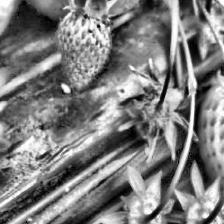Gray Mold: (114, 58, 201, 161)
